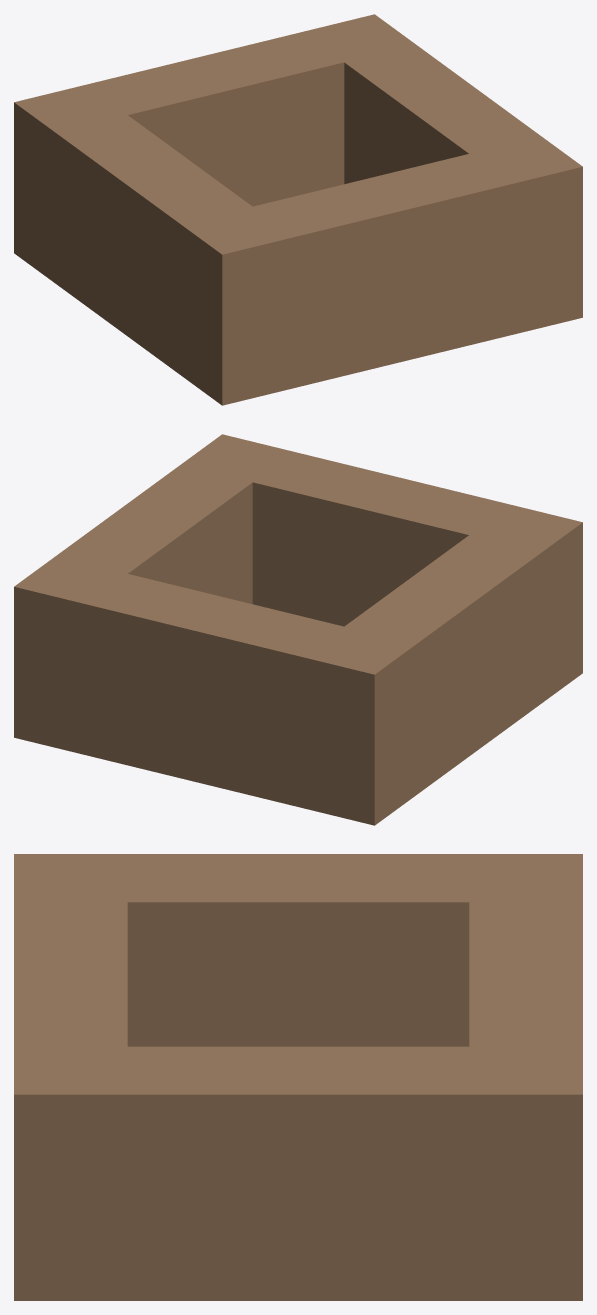
File: brazalete_cuero_01.glb
3 renders of one model, top to bottom at view 1: azimuth 30°, elevation 25°; view 2: azimuth 150°, elevation 25°; view 3: azimuth 270°, elevation 25°, orthographic. The views are drawn at different scales.
Parts seen in each view (by area): view 1: brazalete_cuero; view 2: brazalete_cuero; view 3: brazalete_cuero.
Part boxes in pixels (box(x1,y1,x2,y2)): brazalete_cuero: box(14, 14, 582, 405); brazalete_cuero: box(14, 434, 582, 825); brazalete_cuero: box(14, 854, 582, 1300).
Bounding box in the file's own units: 0.4167 × 0.1667 × 0.4167.
